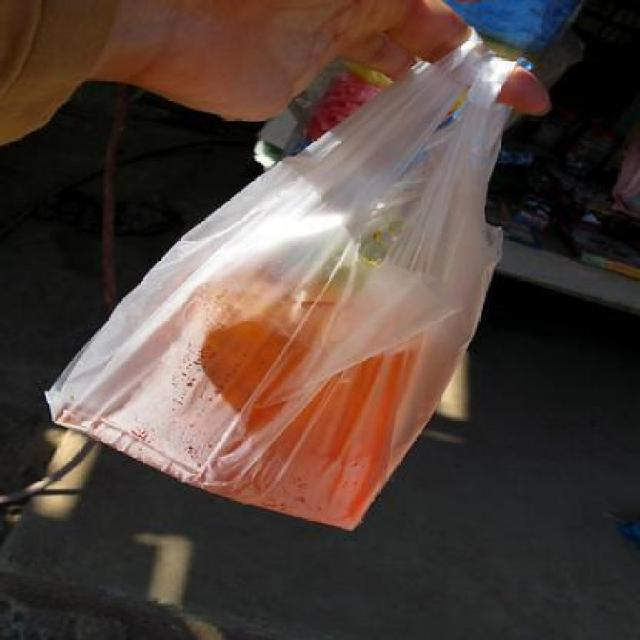plastic bag: (40, 28, 523, 532)
